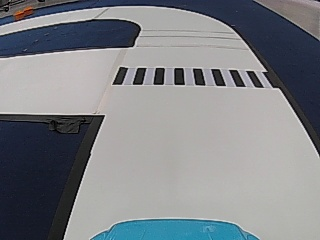CrossWalk: (110, 66, 275, 89)
